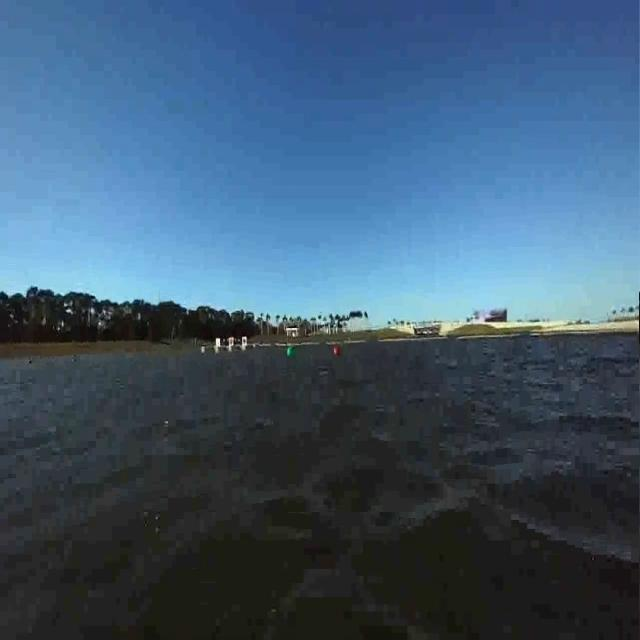green-buoy: (287, 347, 295, 358)
red-buoy: (335, 346, 342, 357)
